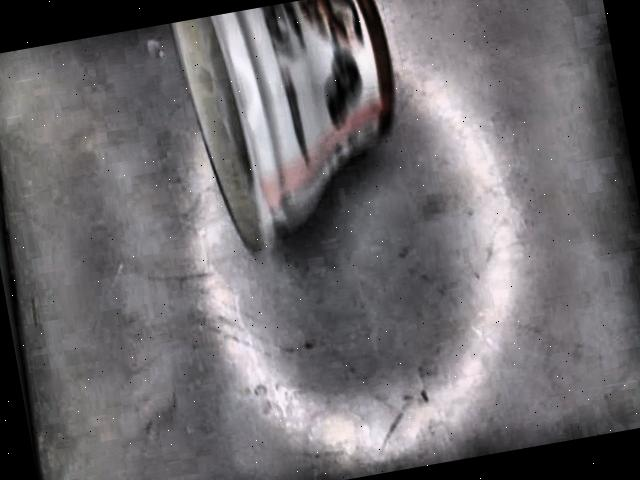Plastic: (167, 0, 394, 261)
